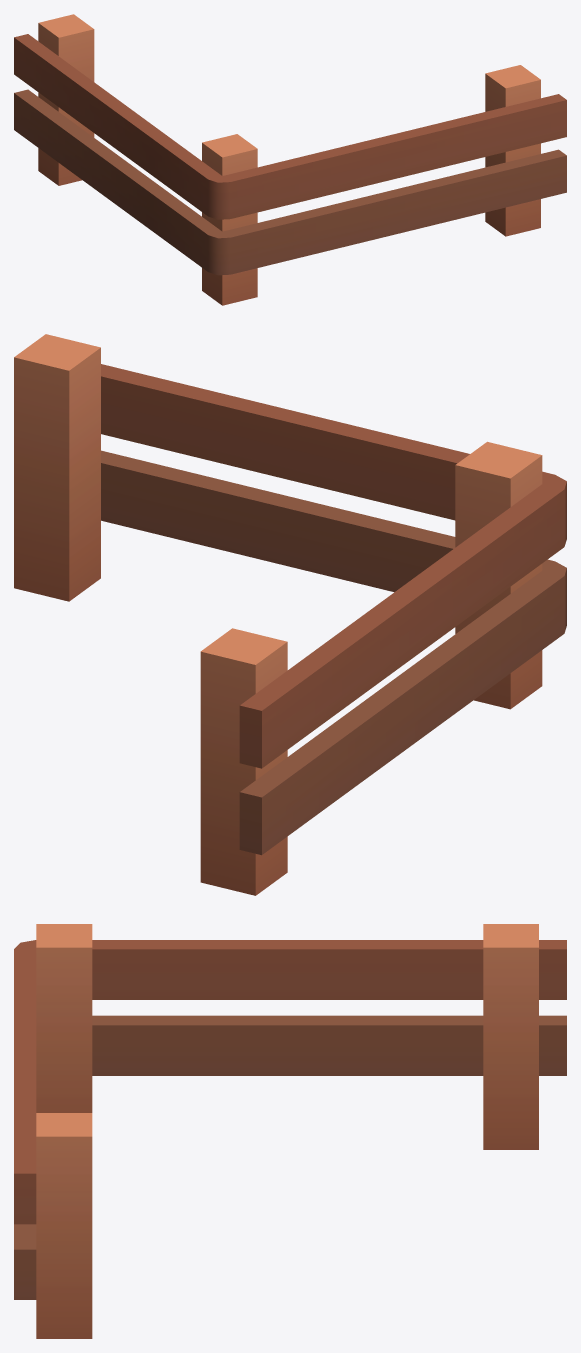
Rendered from kenney-platformer-fence-corner.glb.
The picture shows the model from 3 angles, top to bottom: view 1: azimuth 30°, elevation 25°; view 2: azimuth 150°, elevation 25°; view 3: azimuth 270°, elevation 25°; orthographic projection. The views are drawn at different scales.
Visible parts, largest first — view 1: fence-corner; view 2: fence-corner; view 3: fence-corner.
Boxes of the visible parts, x1,y1,x2,y2 form: fence-corner: (14, 14, 566, 305); fence-corner: (14, 334, 566, 895); fence-corner: (14, 924, 566, 1338).
Size of the model in its own units: 0.99 by 0.3999 by 0.99.
Materials: 1 (1 with a texture image).
